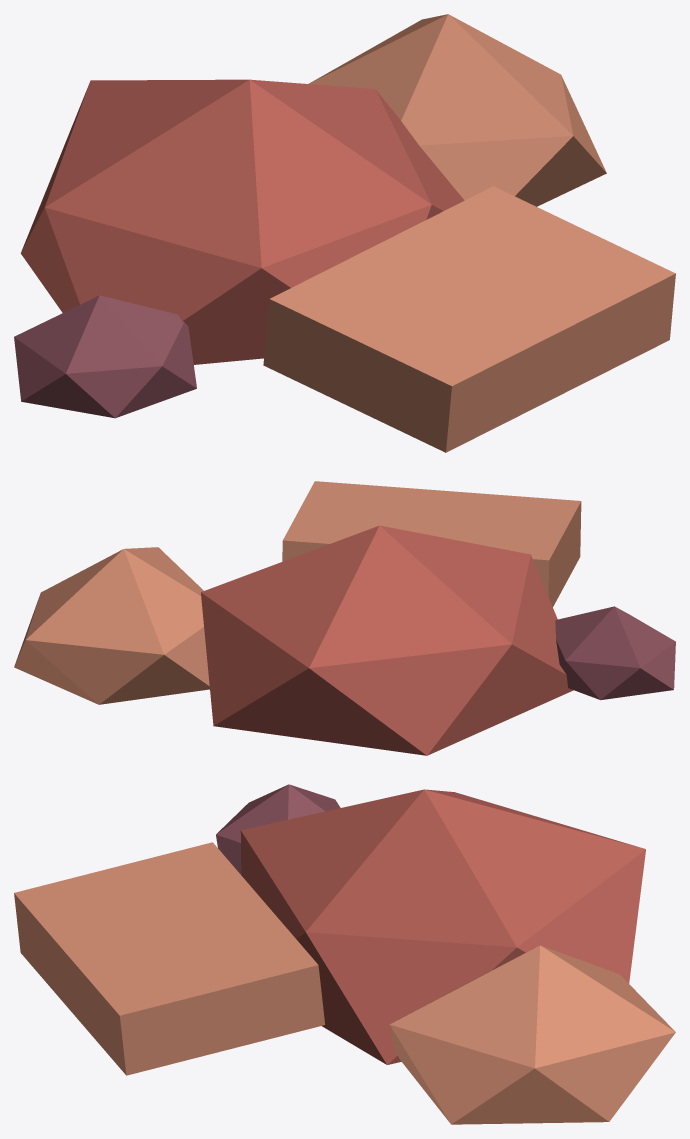
File: Rock_Cluster.fbx
3 renders of one model, top to bottom at view 1: azimuth 30°, elevation 25°; view 2: azimuth 150°, elevation 25°; view 3: azimuth 270°, elevation 25°, orthographic. The views are drawn at different scales.
Parts seen in each view (by area): view 1: Rock_Cluster; view 2: Rock_Cluster; view 3: Rock_Cluster.
Boxes of the visible parts, x1=… form: Rock_Cluster: x1=14, y1=14, x2=675, y2=452; Rock_Cluster: x1=14, y1=481, x2=675, y2=755; Rock_Cluster: x1=14, y1=784, x2=675, y2=1124.
Size of the model in its own units: 3.59 by 1.01 by 3.42.
